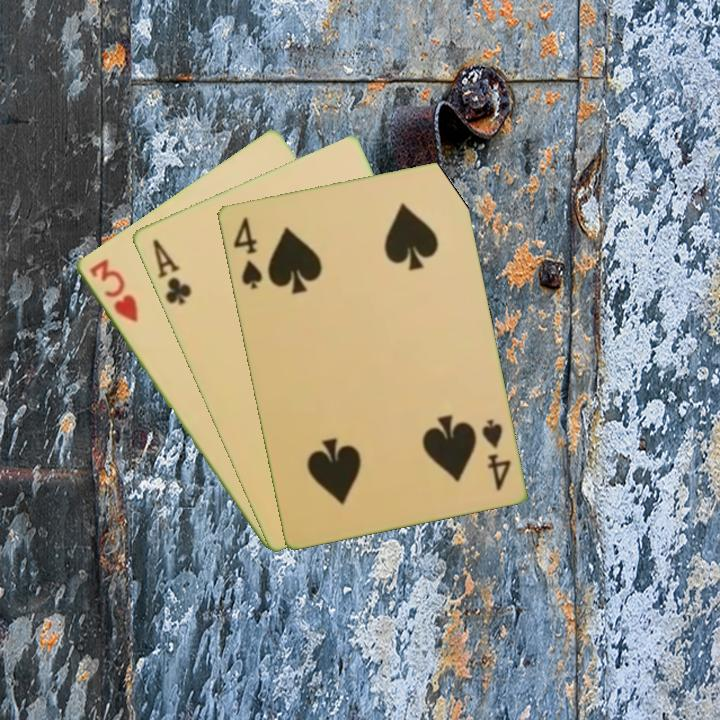3h: (85, 255, 141, 326)
4s: (477, 415, 514, 494), (229, 213, 265, 292)
Ac: (148, 235, 194, 307)
